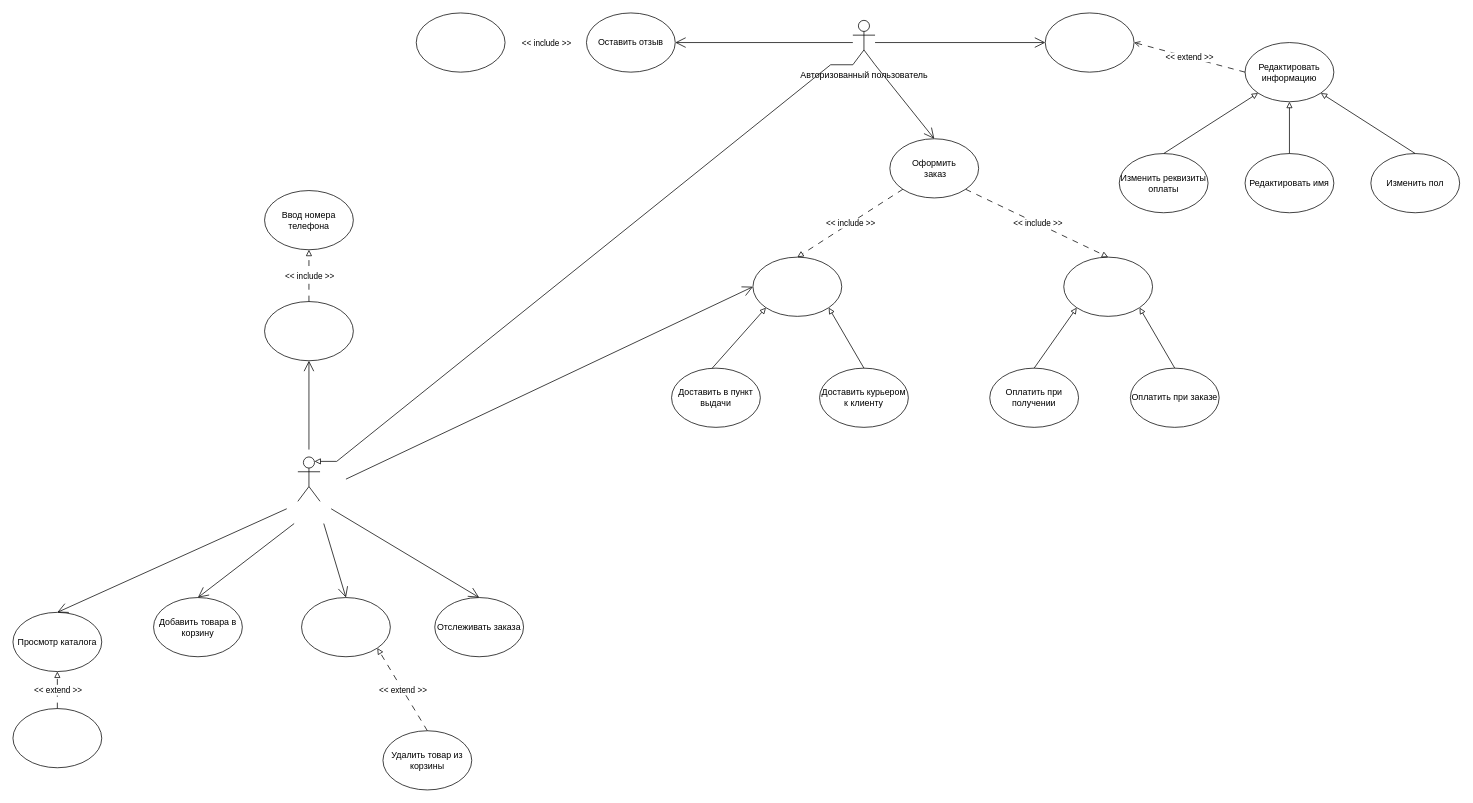
The diagram is 1473 pixels wide and 803 high, and some of its shapes have lost their labels. The centre of each missing label's shape, as x and y in pixels:
Авторизация: (308,331)
Выбрать способ доставки: (797,286)
Выбрать способ оплаты: (1108,286)
Оценить товар: (460,42)
Поиск товара: (57,738)
Пользователь: (308,478)
Просмотреть корзину: (345,627)
Просмотреть профиль: (1089,42)
